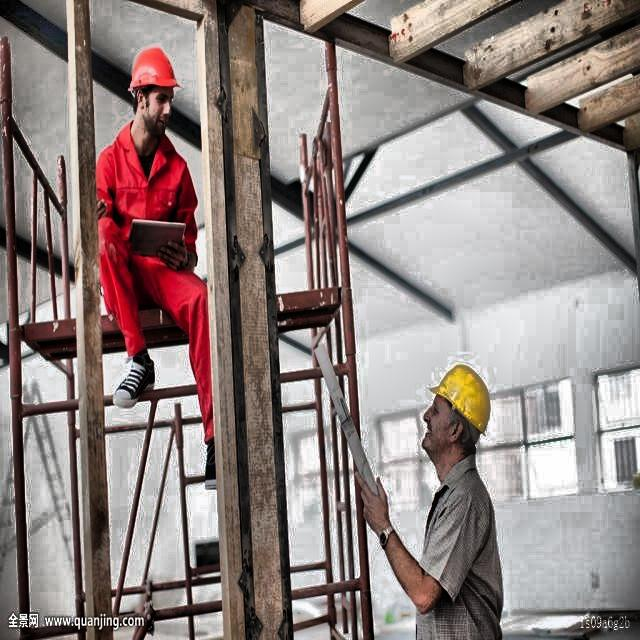person: (94, 46, 224, 502), (409, 357, 509, 640)
